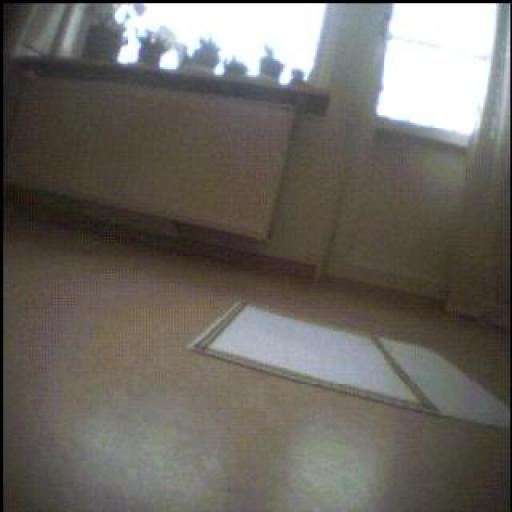Pad: (192, 293, 505, 427)
